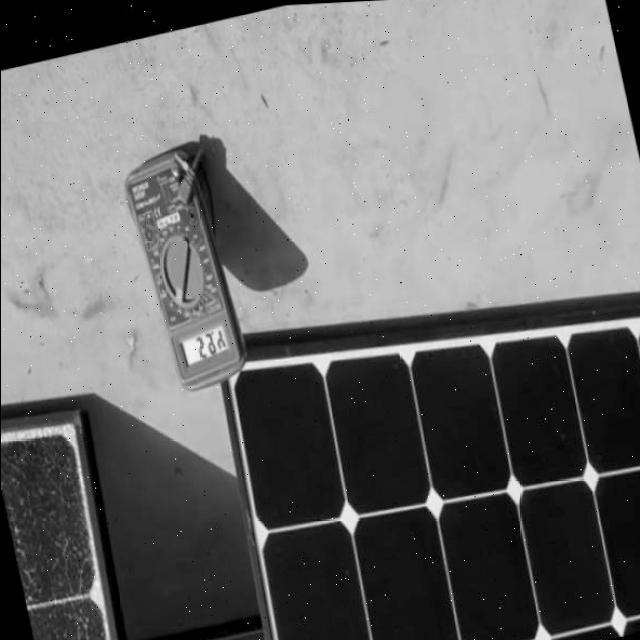Normal Solar Panel: (209, 262, 640, 640)
